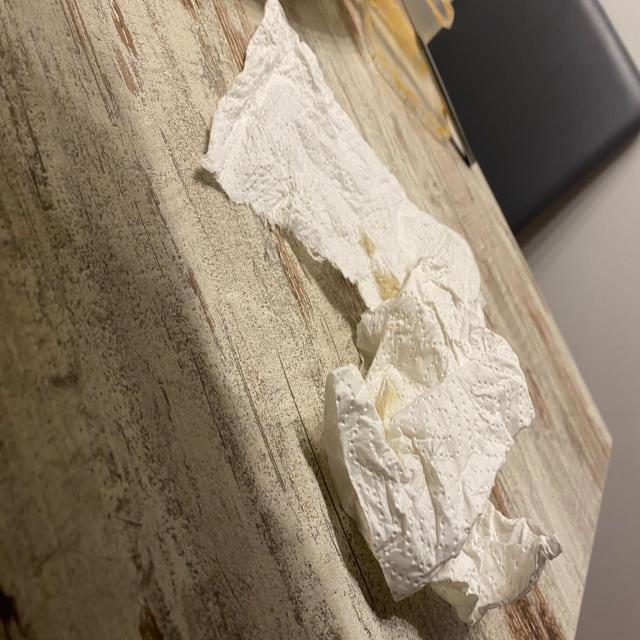kitchen paper: (195, 0, 564, 625)
